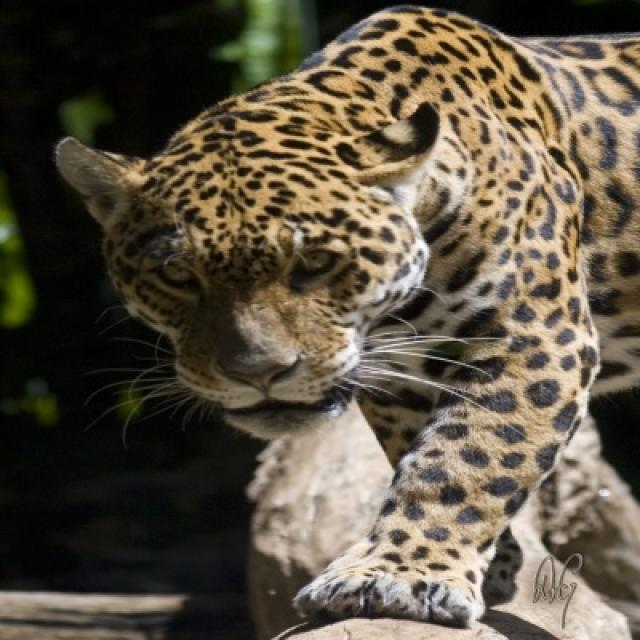Jaguar: (54, 8, 638, 638)
